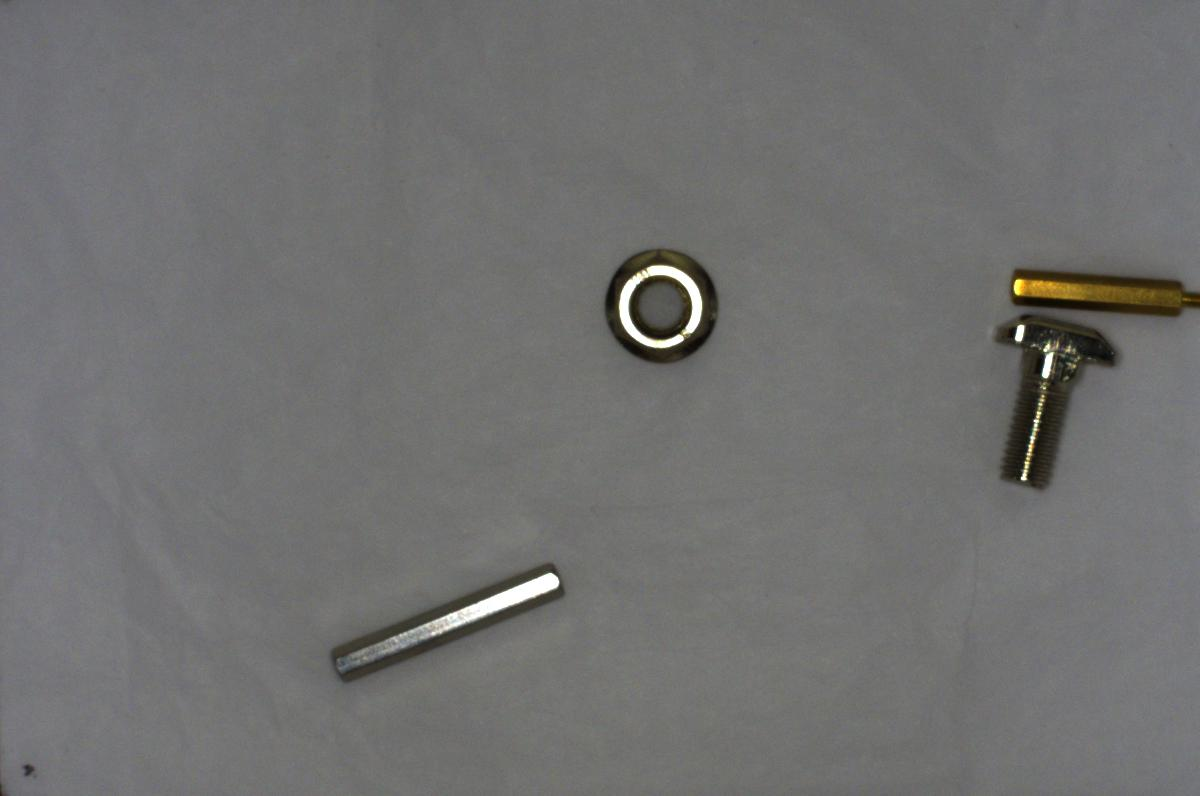Double hexagonal column: (326, 559, 574, 676)
Flange nut: (591, 233, 725, 367)
Hexagon pillar: (998, 263, 1199, 320)
T-shaped screw: (987, 306, 1127, 494)
